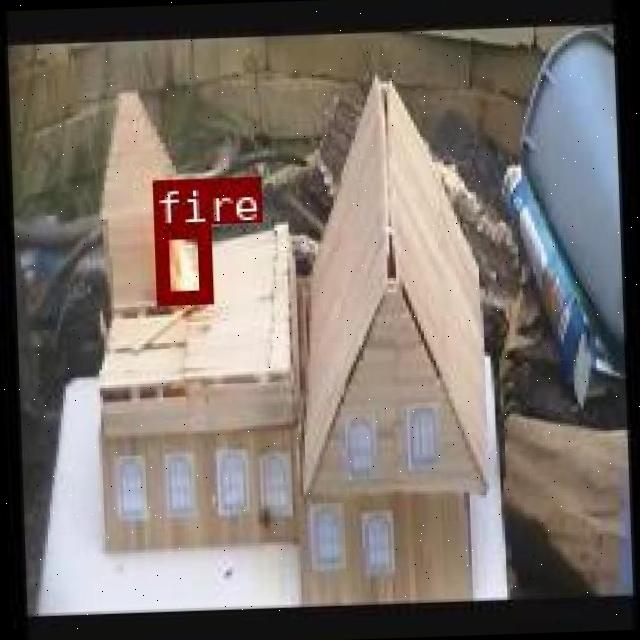fire: (152, 222, 208, 301)
